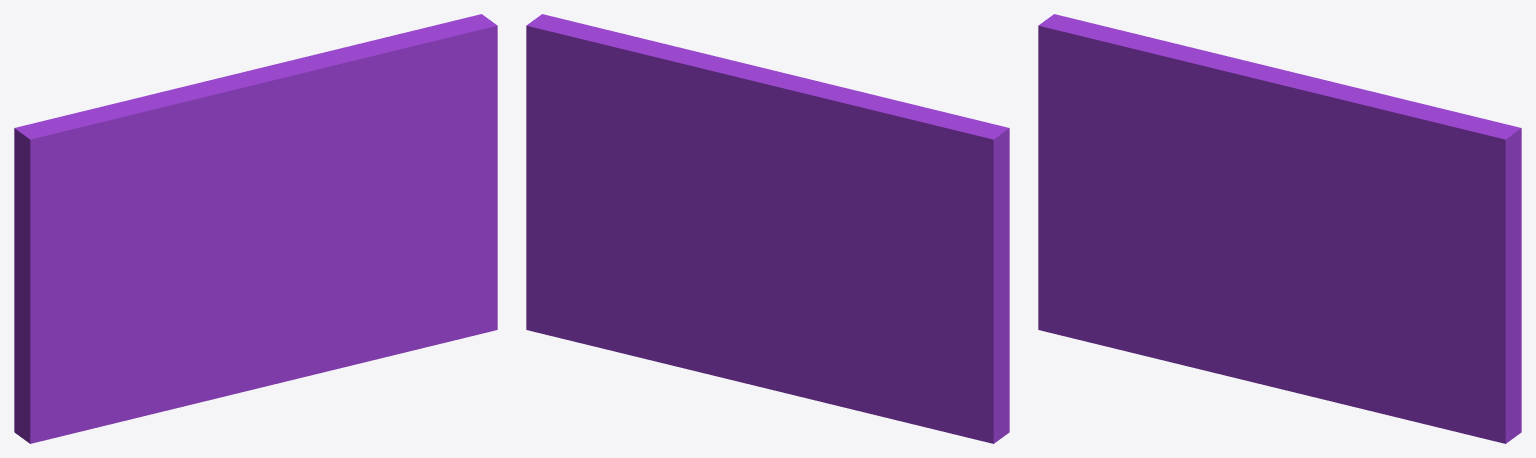
Rendered from Barrier_34_chunks.fbx.
3 views of the same model, side by side, from view 1: azimuth 30°, elevation 25°; view 2: azimuth 150°, elevation 25°; view 3: azimuth 330°, elevation 25° (orthographic).
Parts seen in each view (by area): view 1: Barrier_34_1, Barrier_34_2, Barrier_34_5, Barrier_34_4, Barrier_34_0, Barrier_34_6, Barrier_34_3; view 2: Barrier_34_1, Barrier_34_2, Barrier_34_4, Barrier_34_5, Barrier_34_3, Barrier_34_0; view 3: Barrier_34_1, Barrier_34_2, Barrier_34_5, Barrier_34_4, Barrier_34_0, Barrier_34_6, Barrier_34_3.
Boxes of the visible parts, x1,y1,x2,y2 form: Barrier_34_1: [271, 14, 497, 347]; Barrier_34_2: [14, 65, 273, 368]; Barrier_34_5: [14, 294, 197, 443]; Barrier_34_4: [186, 275, 424, 405]; Barrier_34_0: [208, 70, 301, 260]; Barrier_34_6: [173, 240, 323, 345]; Barrier_34_3: [152, 255, 224, 306]; Barrier_34_1: [526, 14, 756, 349]; Barrier_34_2: [737, 73, 1009, 380]; Barrier_34_4: [606, 264, 844, 407]; Barrier_34_5: [831, 310, 1009, 443]; Barrier_34_3: [724, 240, 874, 337]; Barrier_34_0: [738, 62, 826, 83]; Barrier_34_1: [1284, 76, 1521, 443]; Barrier_34_2: [1038, 14, 1310, 251]; Barrier_34_5: [1038, 239, 1205, 367]; Barrier_34_4: [1194, 304, 1432, 425]; Barrier_34_0: [1216, 69, 1310, 245]; Barrier_34_6: [1182, 236, 1331, 313]; Barrier_34_3: [1160, 233, 1233, 262].
Bounding box in the file's own units: 462 × 288 × 27.2.
